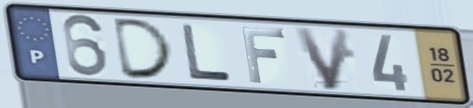4: (370, 33, 411, 93)
6: (60, 13, 111, 80)
D: (110, 16, 178, 81)
F: (238, 25, 288, 86)
L: (178, 22, 235, 83)
V: (291, 25, 354, 93)
